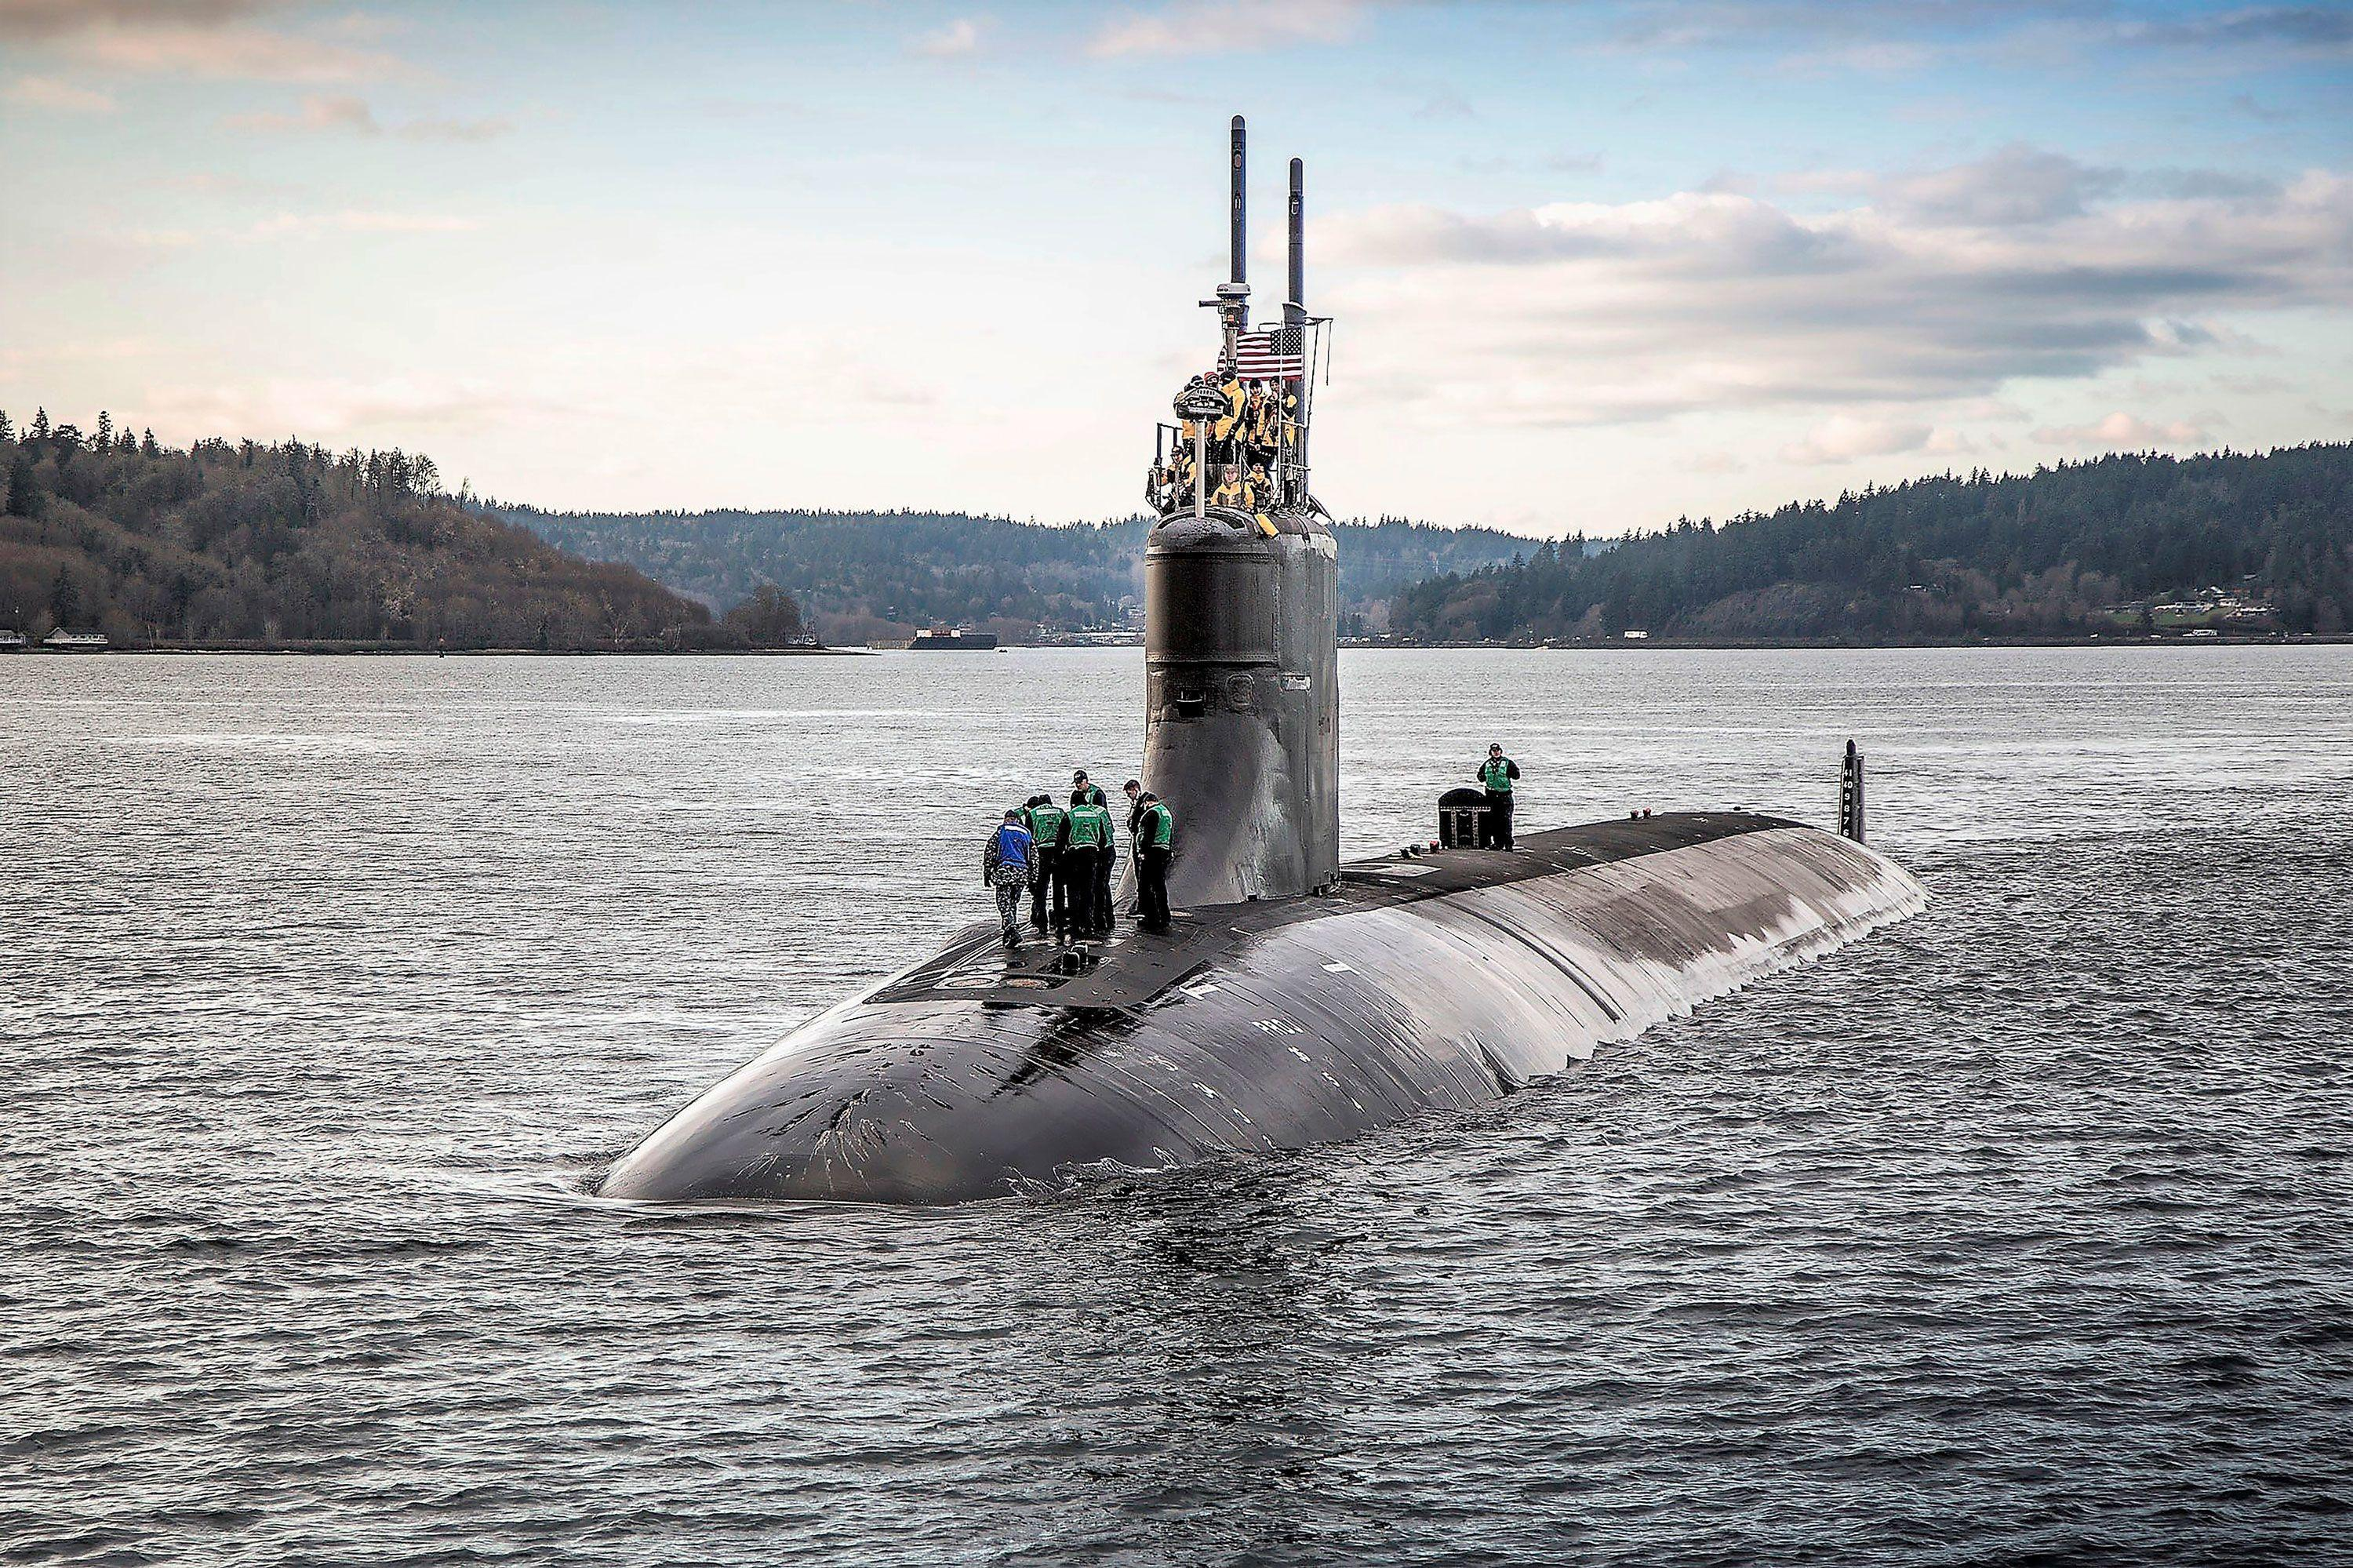Submarine: (518, 71, 2008, 1400)
